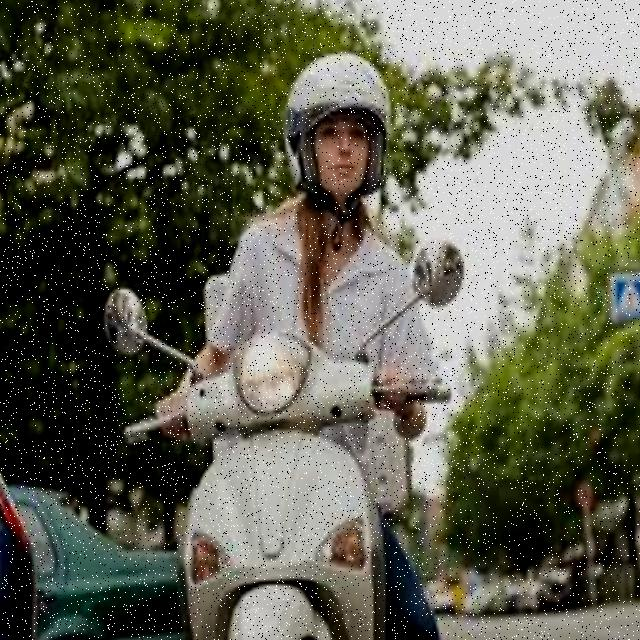not_triplets: (69, 15, 493, 640)
with-helmet: (277, 44, 404, 228)
